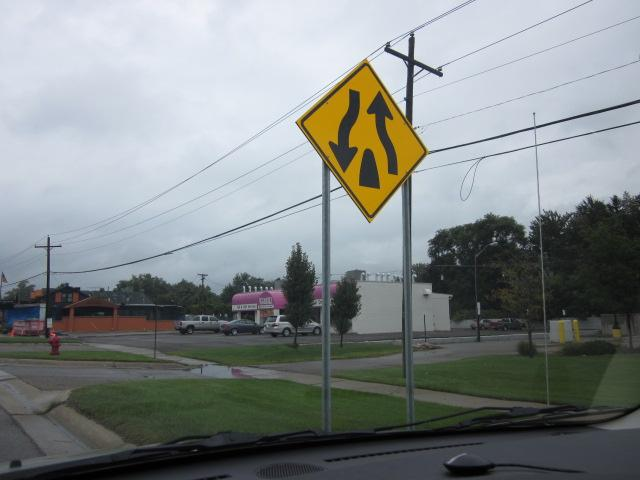warning: (297, 60, 429, 223)
